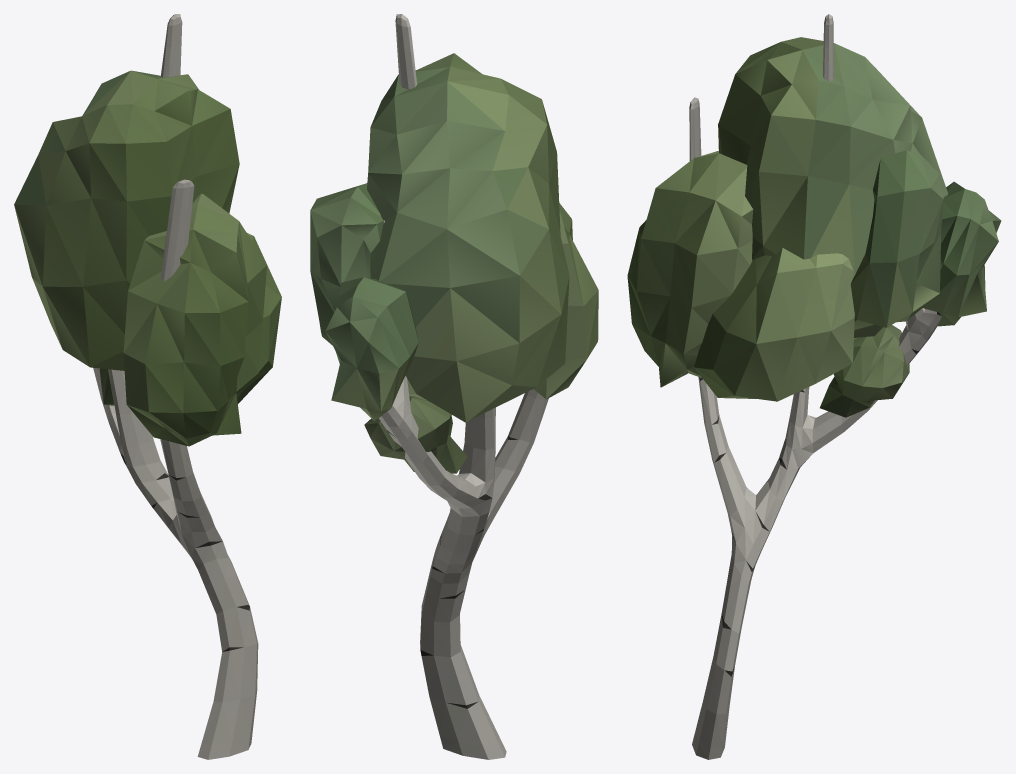
The model's file is Birch_Tree.glb.
3 views of the same model, side by side, from view 1: azimuth 30°, elevation 25°; view 2: azimuth 150°, elevation 25°; view 3: azimuth 270°, elevation 25° (orthographic). The views are drawn at different scales.
Visible parts, largest first — view 1: BirchTree_1; view 2: BirchTree_1; view 3: BirchTree_1.
Part boxes in pixels (x1,y1,x2,y2): BirchTree_1: [14, 14, 281, 759]; BirchTree_1: [310, 14, 598, 759]; BirchTree_1: [627, 14, 1001, 759].
Bounding box in the file's own units: 1.7 × 5.38 × 2.48.
